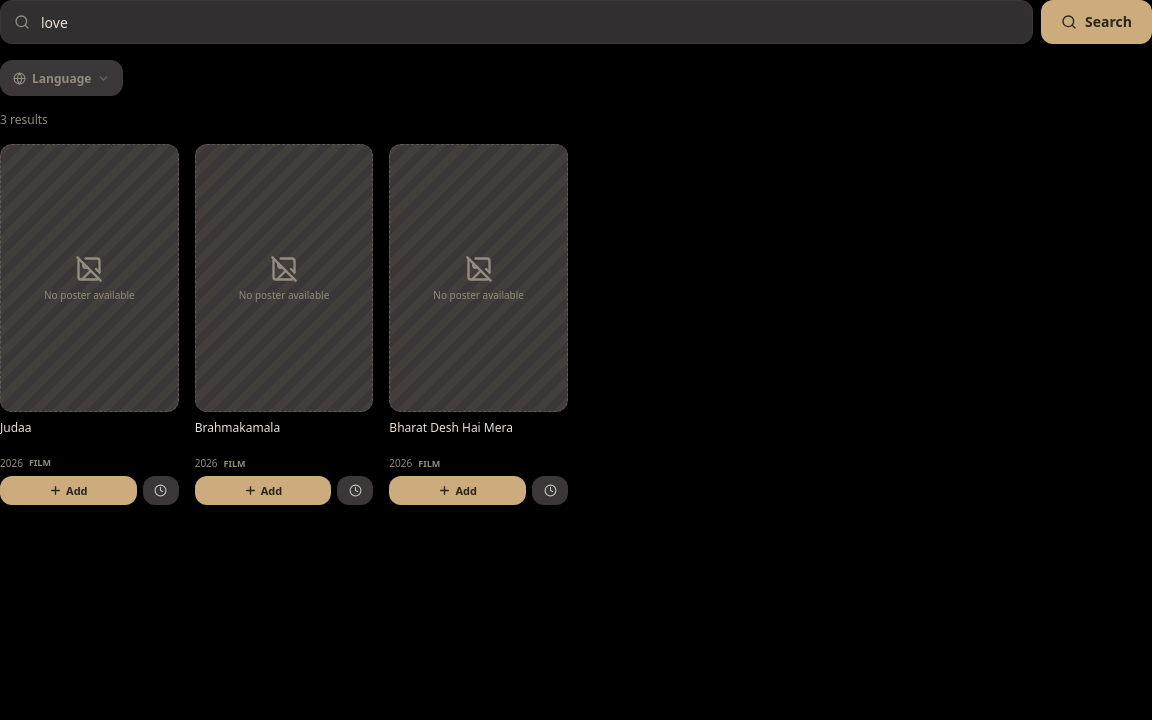
it: Search language filter › picking a second language adds to the filter instead of replacing it, and records both in the URL
Expected: the heading "Judaa" is shown, [0,419,32,436]
What coordinates should you click on to do the following:
click the button "Language"
I would click on:
 (62, 78)
Its box is [1,61,122,95].
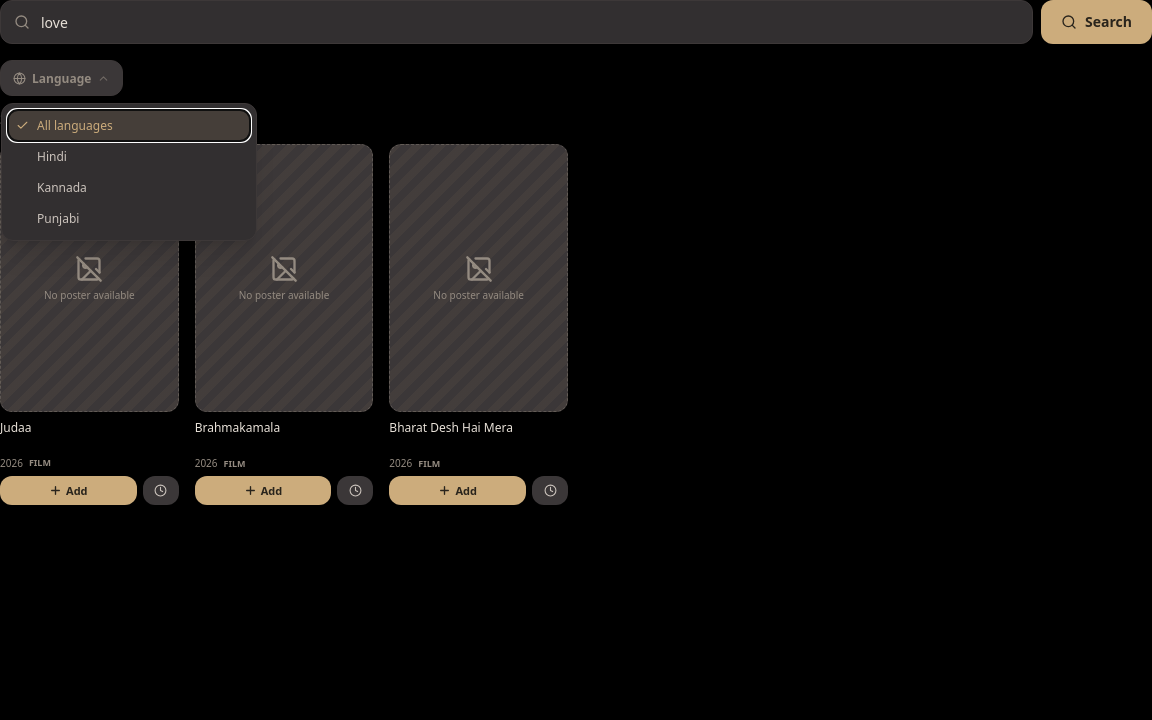
What coordinates should you click on to do the following:
click the button "Punjabi"
I would click on:
 (129, 218)
Its box is [8,203,250,234].
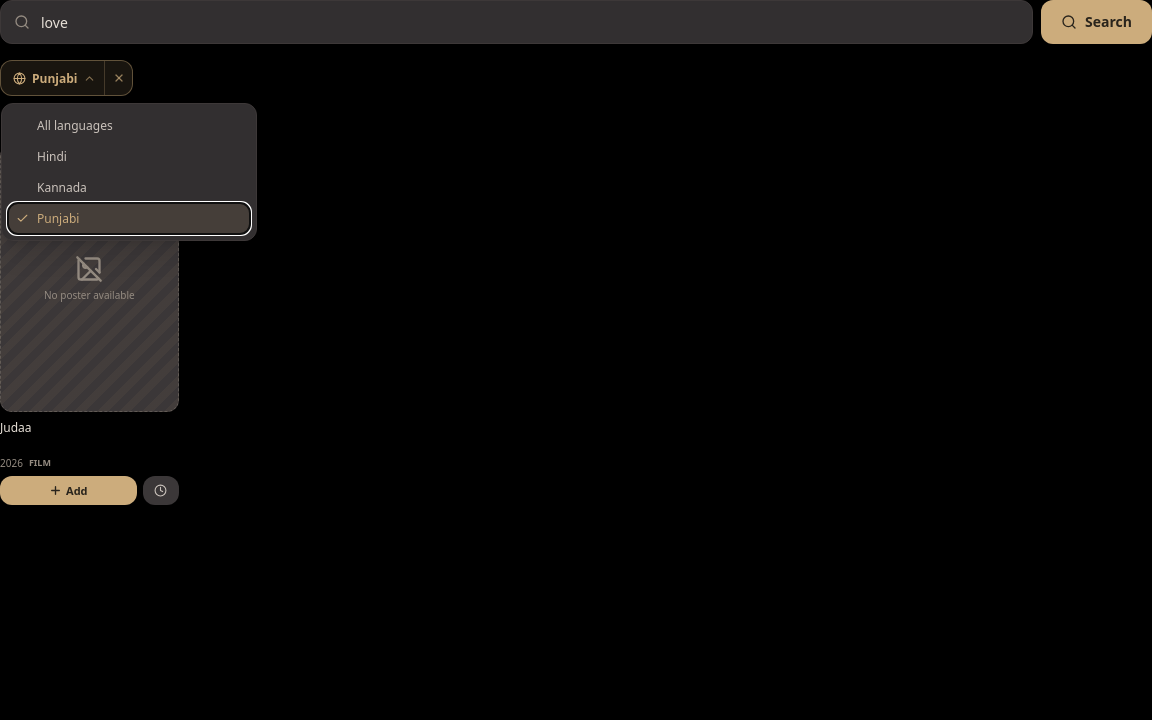
Expected: the dialog is shown, [1,103,257,241]
What coordinates should you click on to do the following:
click the button "Kannada"
I would click on:
 (129, 188)
Its box is [8,172,250,203].
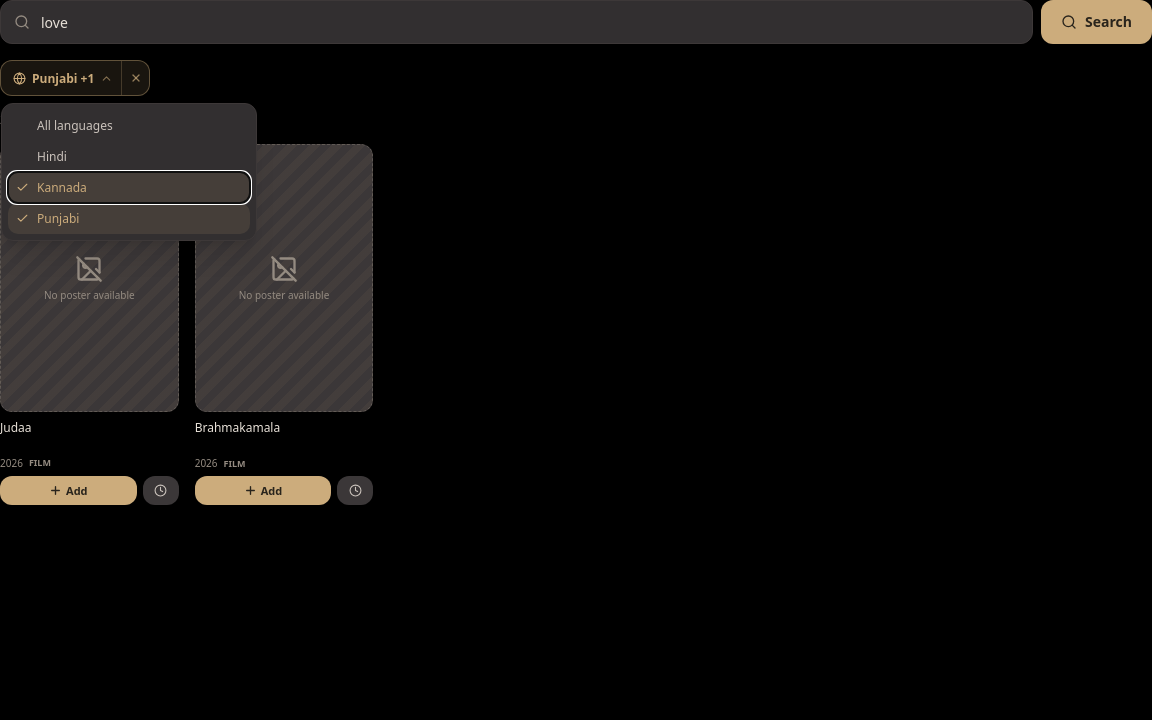
Expected: the heading "Judaa" is shown, [0,419,32,436]
Expected: the heading "Brahmakamala" is shown, [195,419,280,436]
